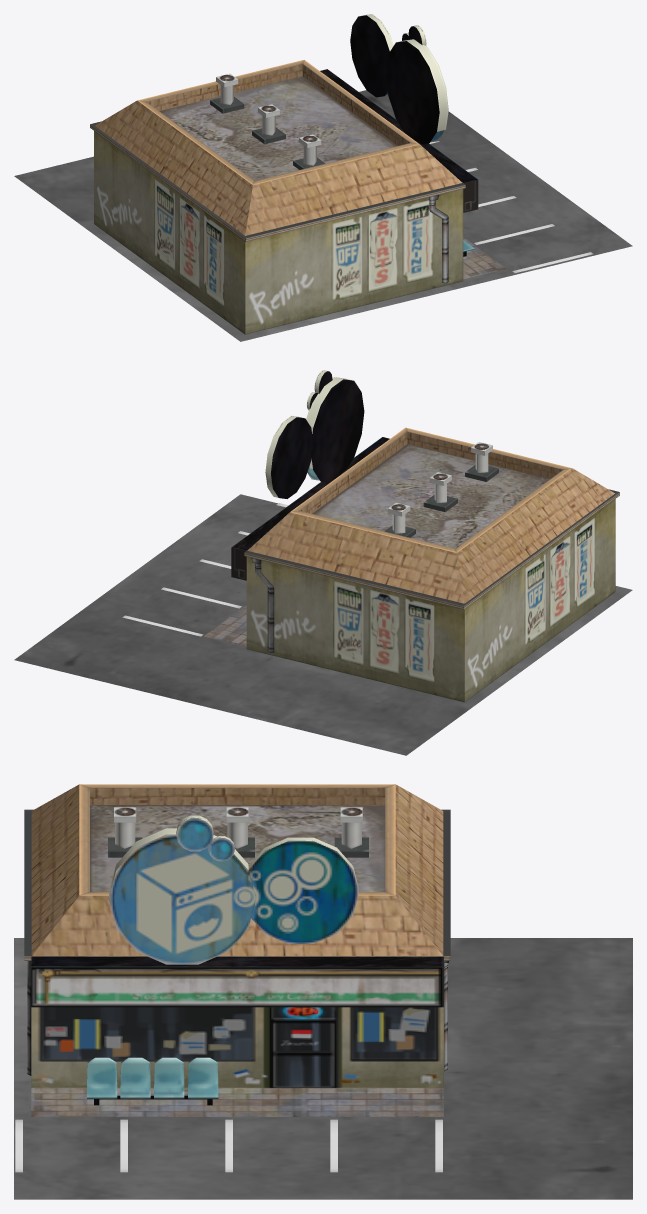
The model's file is laundry.glb.
3 views of the same model, one above another, from view 1: azimuth 30°, elevation 25°; view 2: azimuth 150°, elevation 25°; view 3: azimuth 270°, elevation 25° (orthographic). The views are drawn at different scales.
Parts seen in each view (by area): view 1: laundry; view 2: laundry; view 3: laundry.
Part boxes in pixels (box(x1,y1,x2,y2)): laundry: box(14, 14, 632, 341); laundry: box(14, 370, 632, 755); laundry: box(14, 784, 632, 1199).
Size of the model in its own units: 18 by 9.09 by 18.
1 material, 1 textured.
